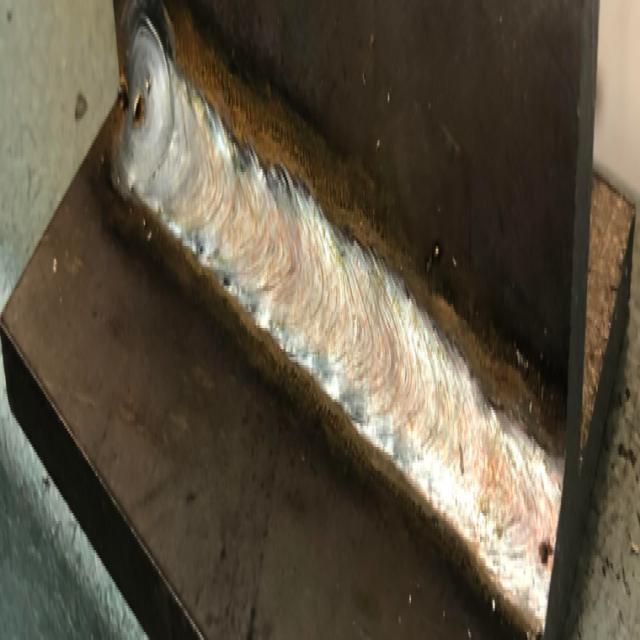Good Welding: (116, 27, 564, 638)
